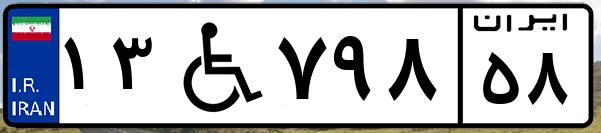1: (57, 26, 110, 100)
3: (110, 28, 158, 98)
5: (475, 38, 525, 113)
7: (270, 28, 330, 110)
8: (385, 28, 445, 110), (525, 38, 570, 115)
9: (330, 28, 385, 110)
ژ (معلولین و جانبازان): (158, 12, 270, 120)
